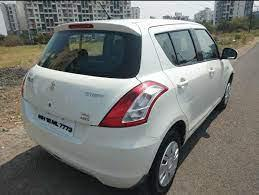Hatchback: (18, 16, 240, 190)
